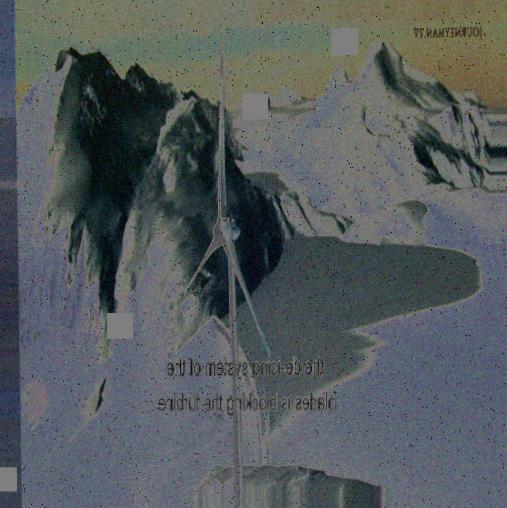wind turbine: (175, 49, 273, 487)
